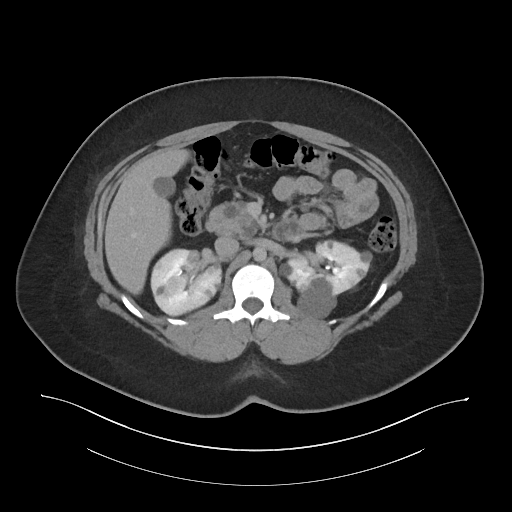Lesion: (185, 248, 204, 267)
